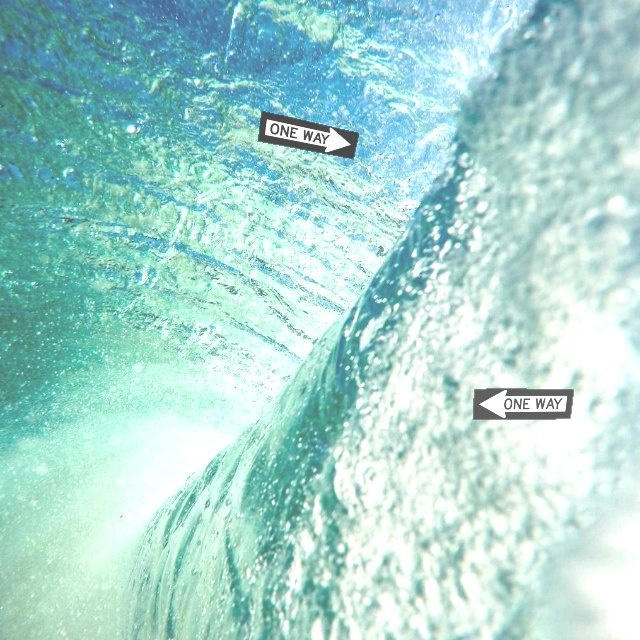ONE_WAY_ left: (472, 388, 574, 420)
ONE_WAY_ right: (257, 110, 359, 159)
